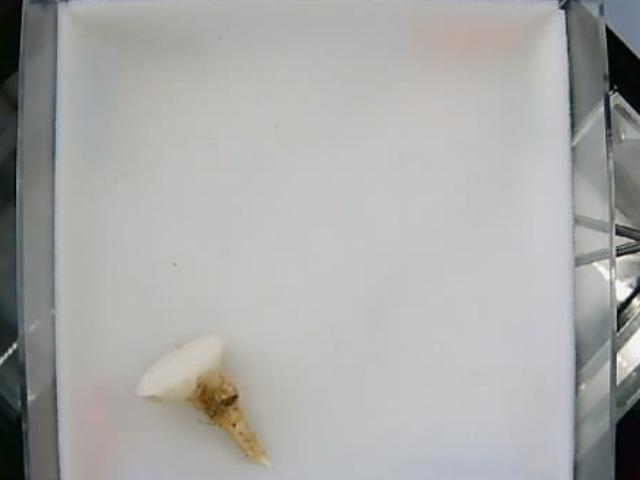Mooli: (138, 331, 273, 468)
